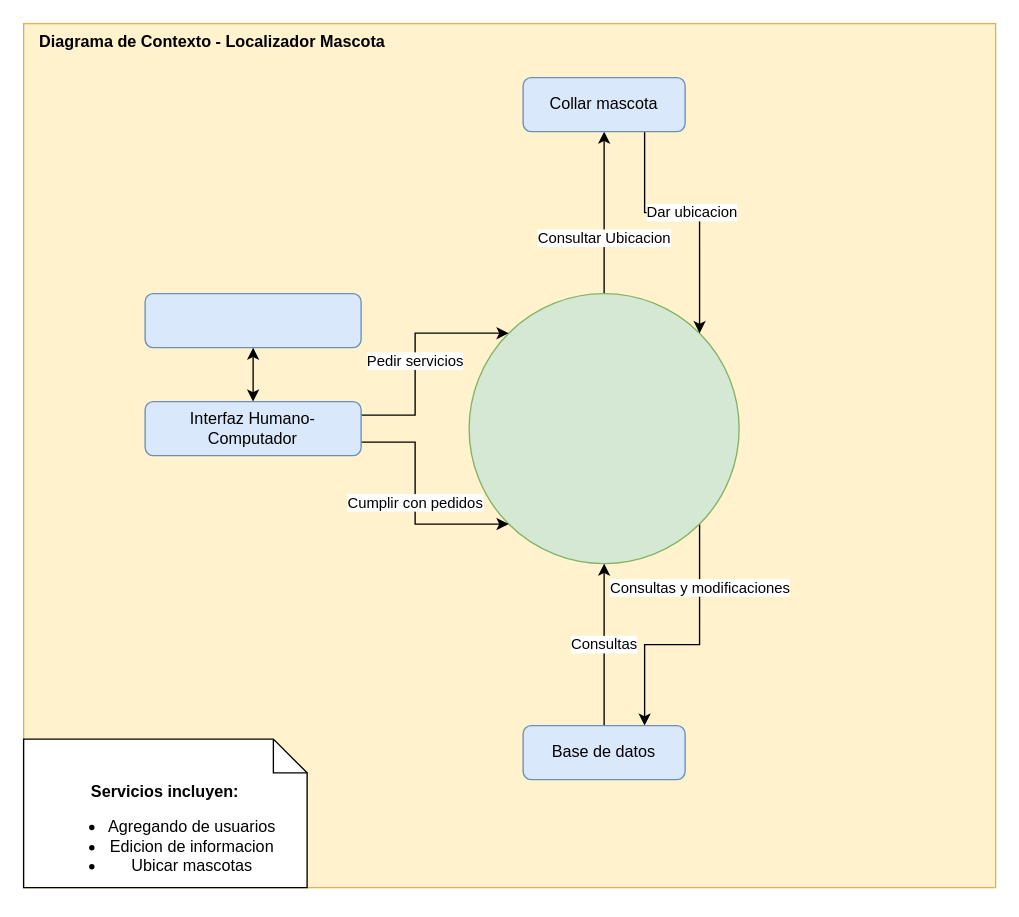
Image size: 1019x917. Some labels were removed from this diagram. Each missing label, with the box of its shape:
Sistema Localizador de Mascota: (468, 292, 739, 564)
Usuarios: (144, 292, 361, 348)
